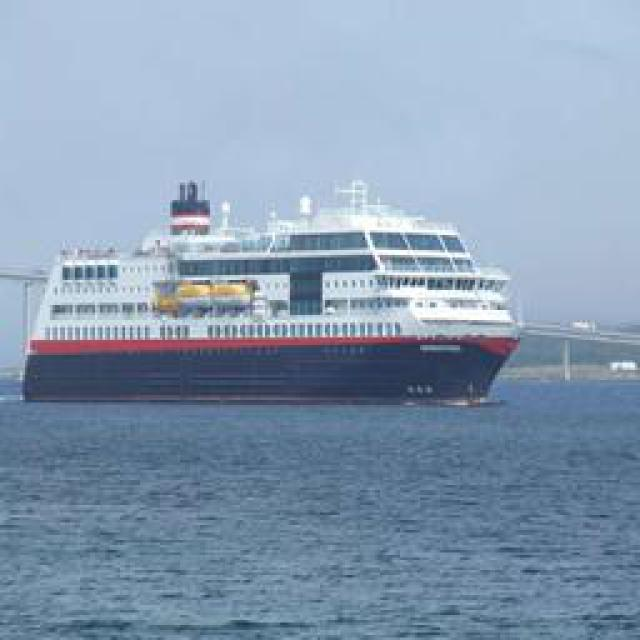Ship: (32, 184, 520, 407)
